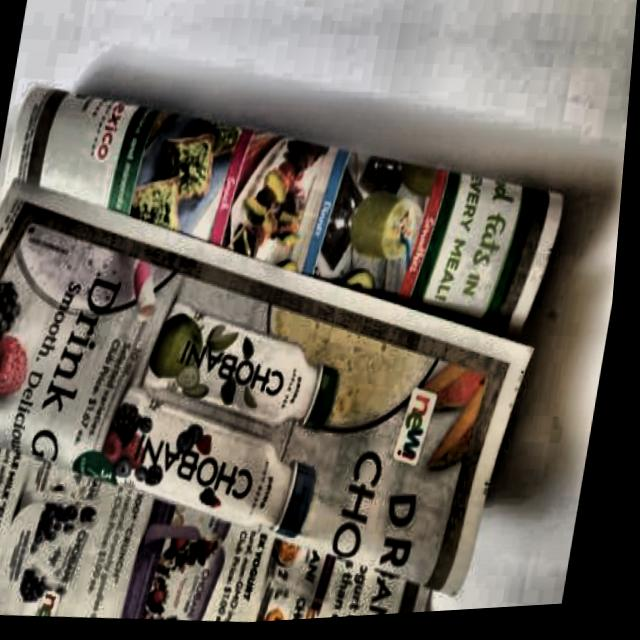Paper: (0, 48, 603, 640)
